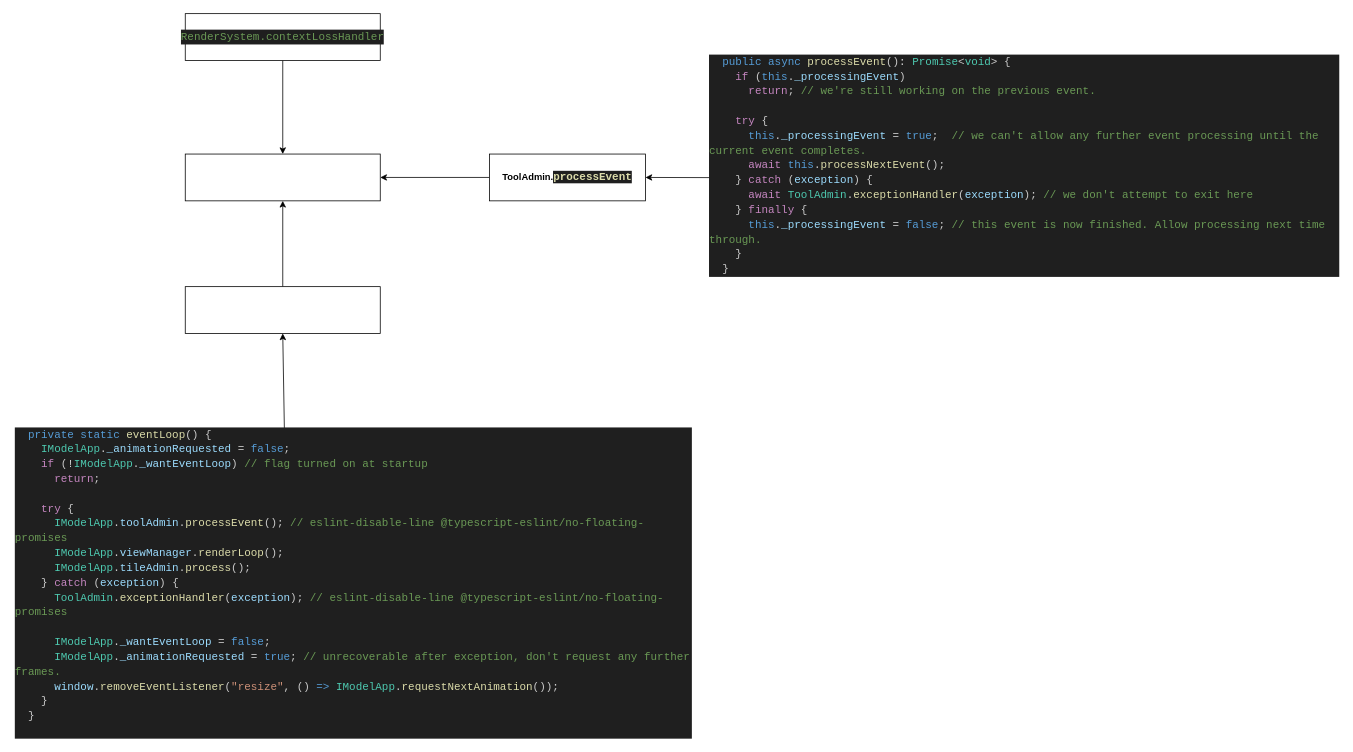
Some shapes in this 1353 by 752 pixel diagram are drawn without their labels. Here are the shapes that lost their labels. From the top down, the centre of each, then its label:
At (x=282, y=177): "ToolAdmin.exceptionHandler".
At (x=282, y=309): "ToolAdmin. eventLoop".
